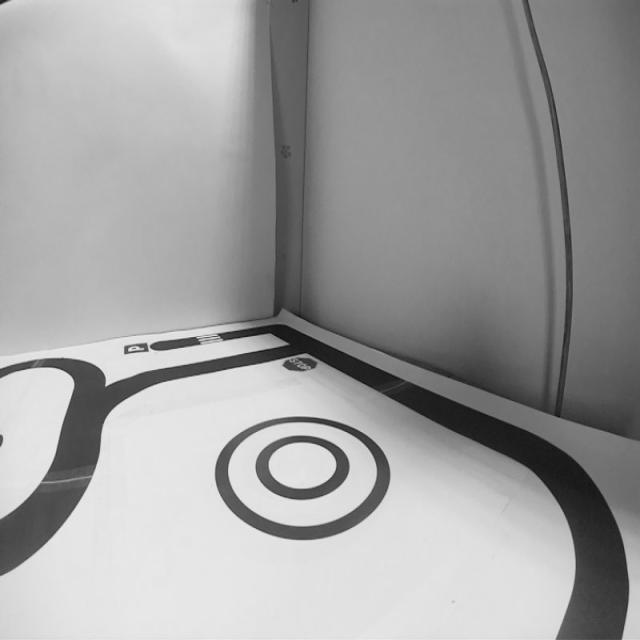cockade: (216, 413, 392, 548)
